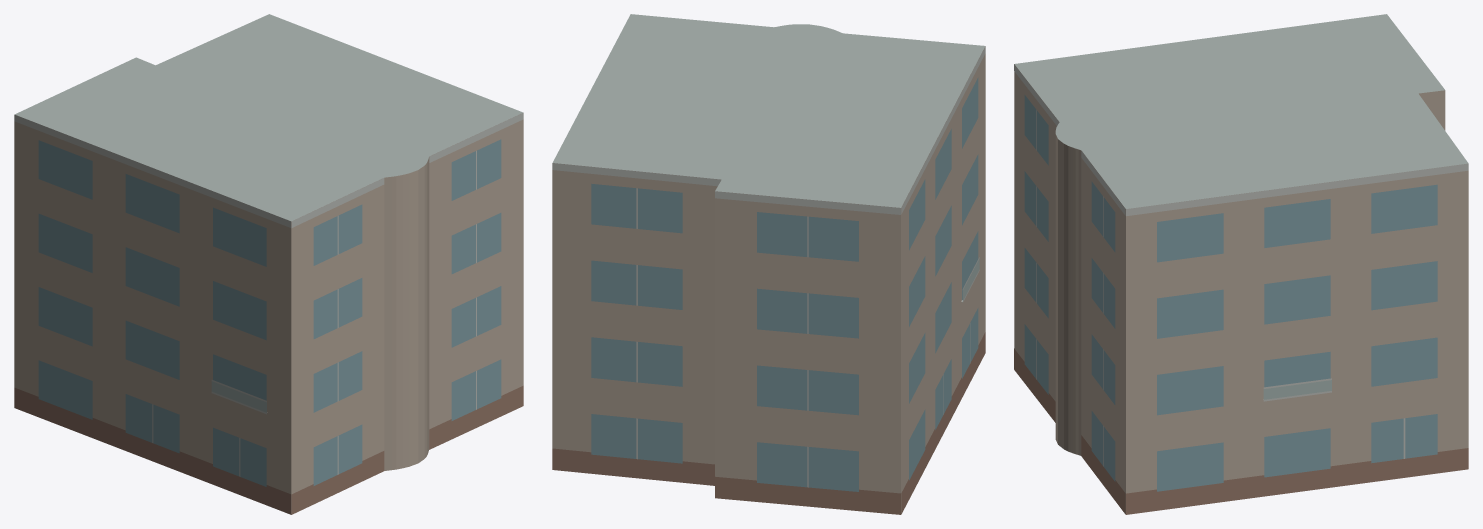
File: survey-upis-32838065.glb
3 views of the same model, side by side, from view 1: azimuth 30°, elevation 25°; view 2: azimuth 150°, elevation 25°; view 3: azimuth 270°, elevation 25° (orthographic). The views are drawn at different scales.
Visible parts, largest first — view 1: survey-upis-32838065.tmp; view 2: survey-upis-32838065.tmp; view 3: survey-upis-32838065.tmp.
Boxes of the visible parts, x1,y1,x2,y2 form: survey-upis-32838065.tmp: (14,14,523,514); survey-upis-32838065.tmp: (552,14,985,514); survey-upis-32838065.tmp: (1014,14,1468,514).
Size of the model in its own units: 14.38 by 10.5 by 14.16.
